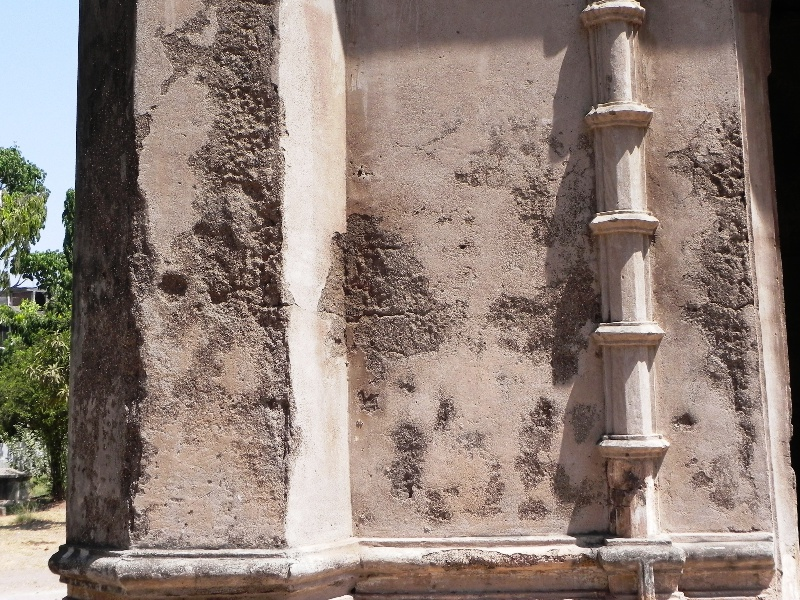Spalling: (162, 8, 296, 417), (664, 99, 762, 457), (325, 217, 448, 376), (483, 259, 596, 389)
